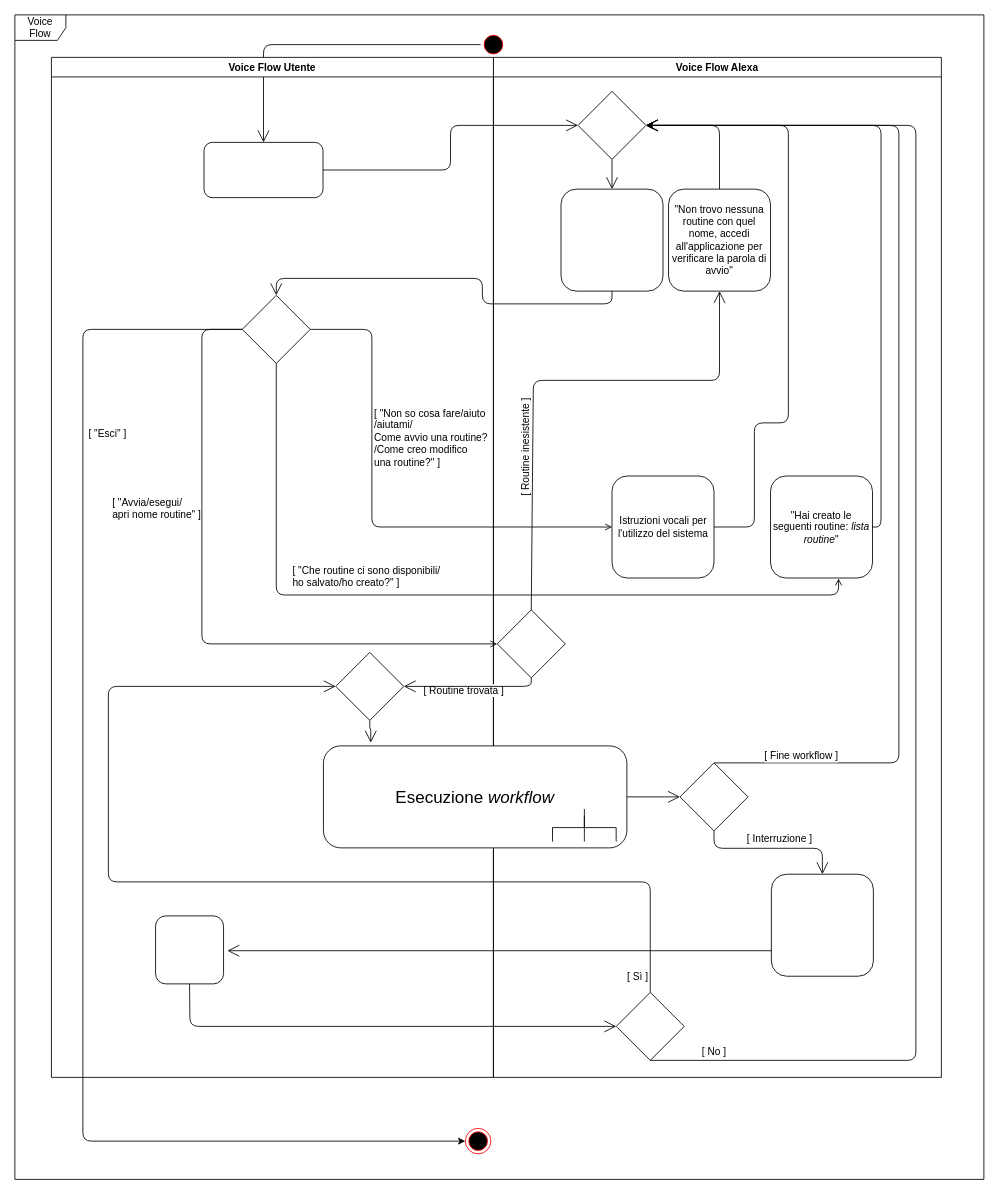
Image size: 999x1194. Some labels were removed from this diagram. The box of each missing label's shape, as (x1, y1, x2, y2) in pixels:
"Alexa, avvia/apri/esegui nome applicazione": (203, 142, 323, 198)
"Cosa posso fare?" "In cosa posso esserti utile?" "Che routine vuoi avviare?": (560, 188, 663, 291)
"La routine nome è stata interrotta, vuoi riprenderla?": (771, 873, 873, 976)
"Sì/No": (155, 915, 224, 984)
